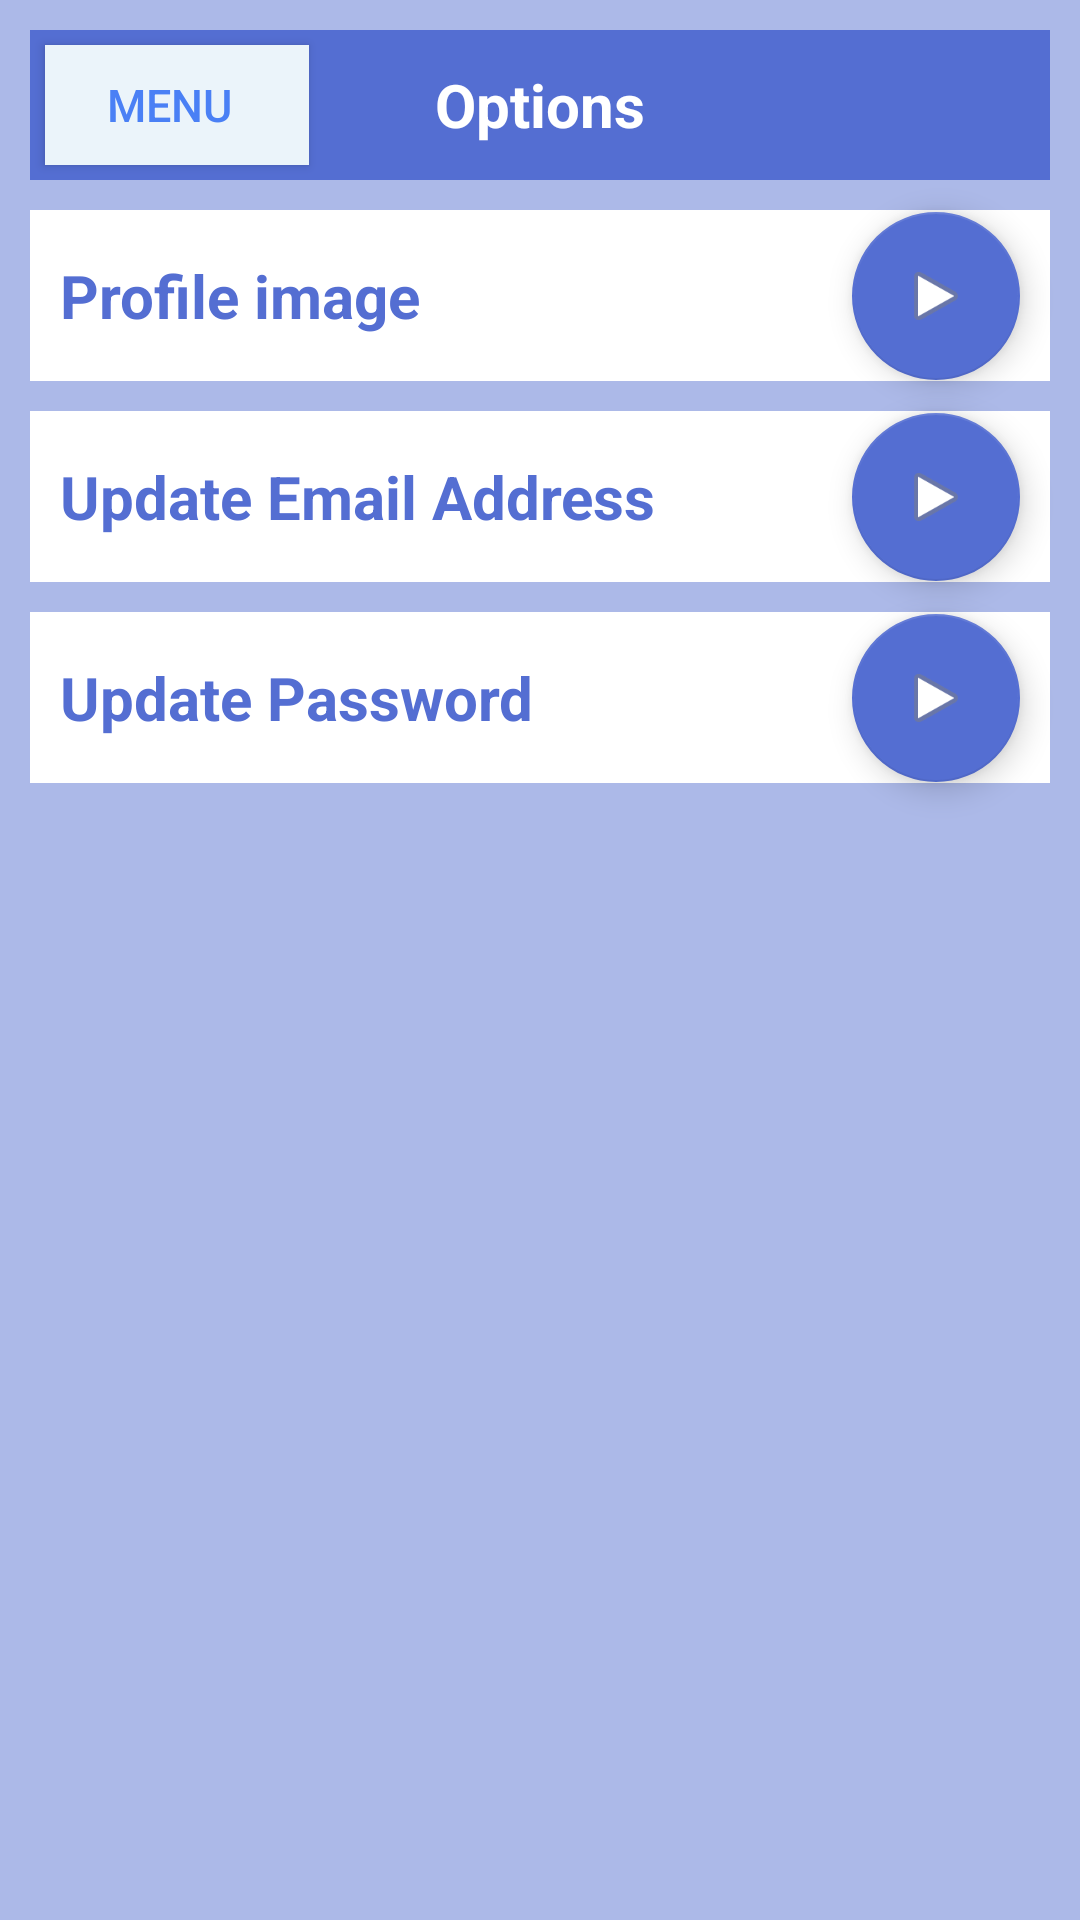

Icon click points for this 1080*1920 phone screenshot, format (x,y):
play: (936,296), (936,497), (936,698)
